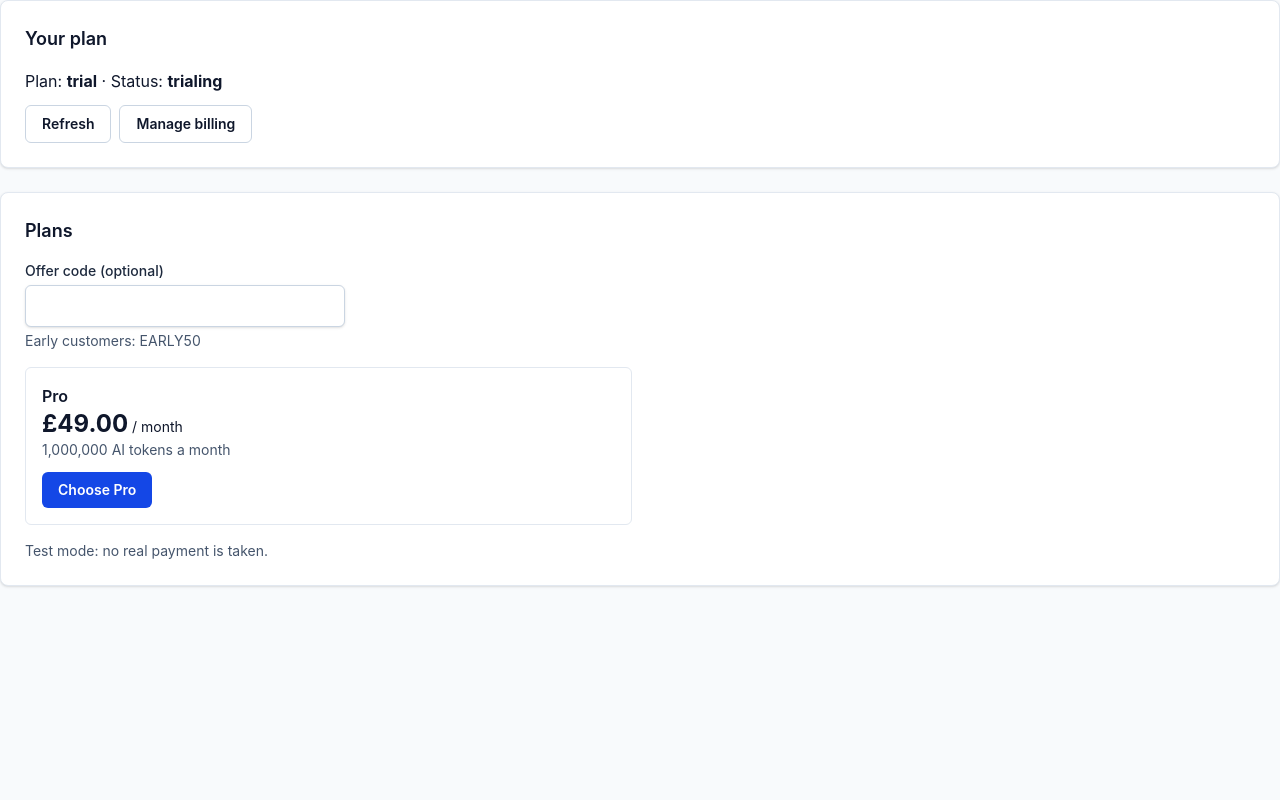
Test: Billing › shows the server error when checkout fails
Click the button "Choose Pro" at (97, 490), box [42, 472, 152, 508]
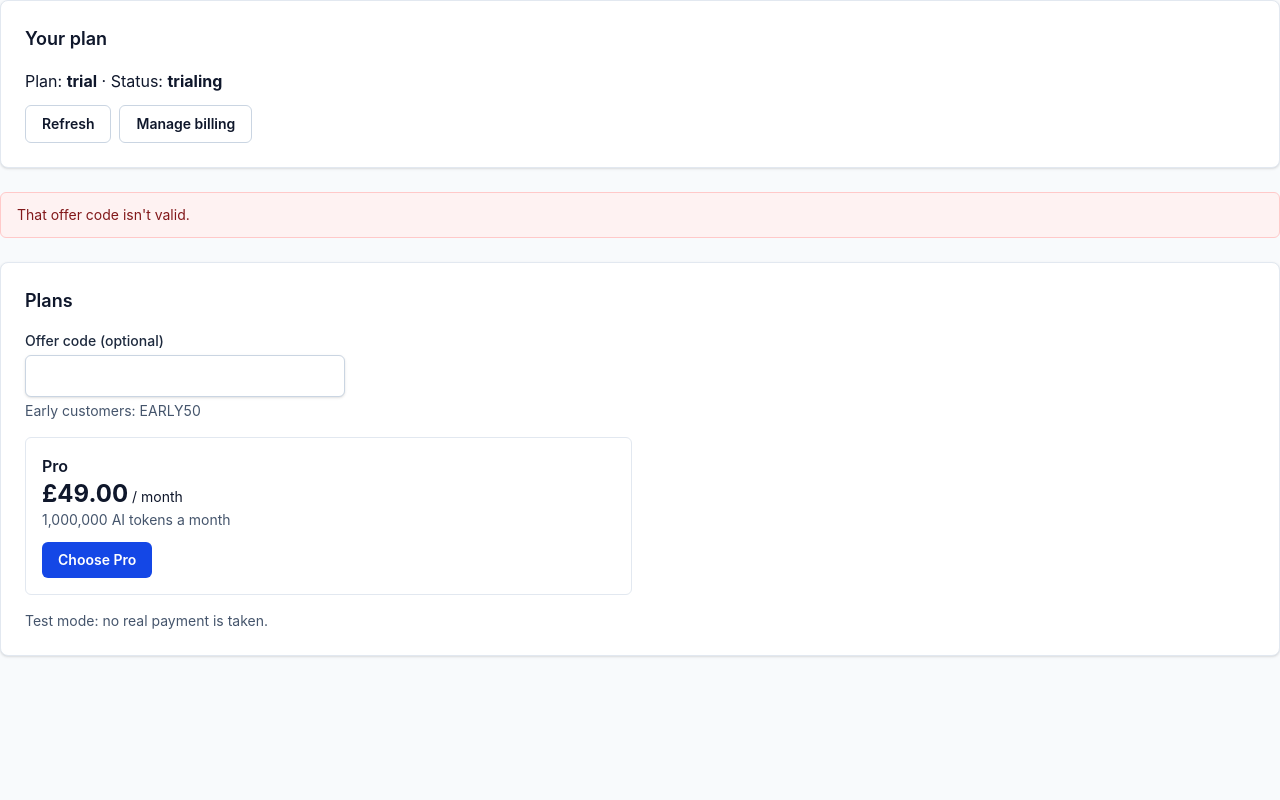
Expected: the message reads "That offer code isn't valid.", [17, 206, 190, 223]
